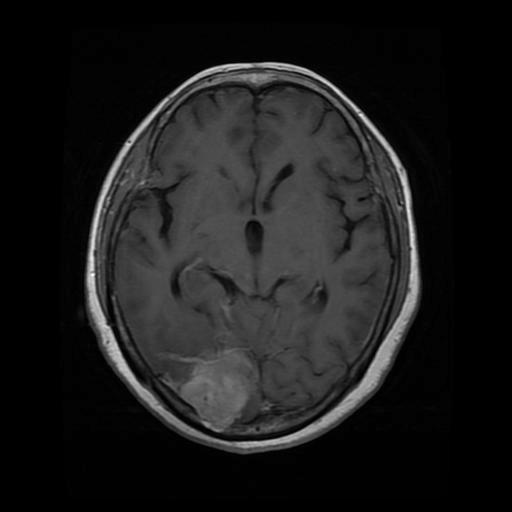Tumour-Meningioma: (161, 336, 275, 450)
